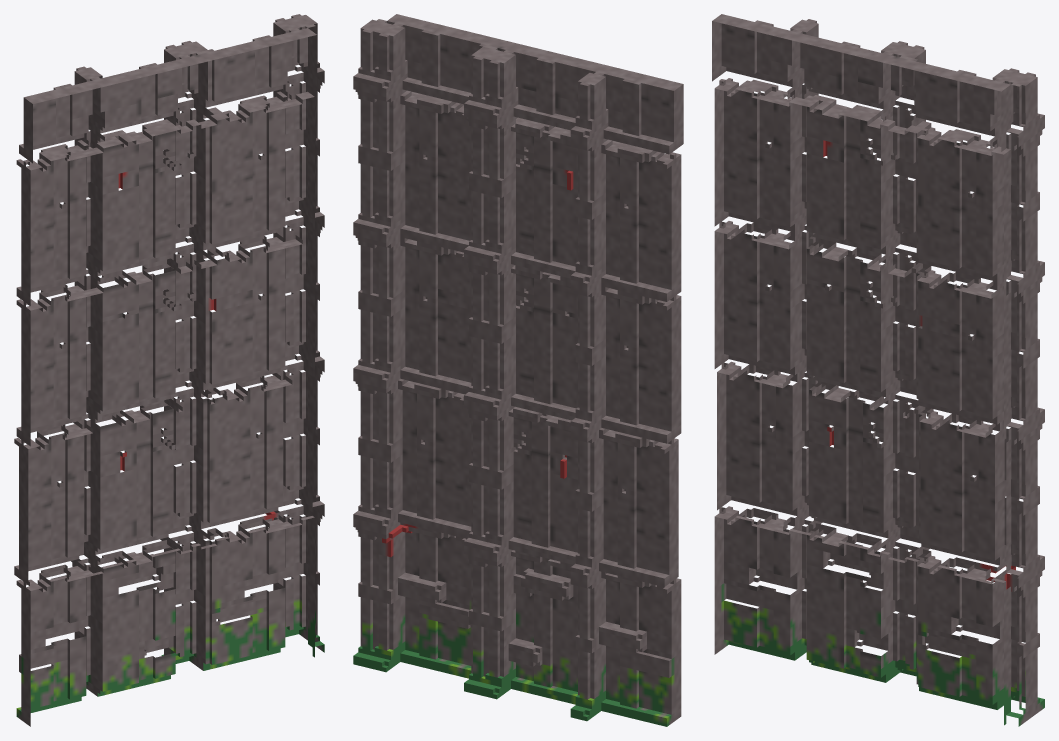
The model's file is deathGate_door_right_state_2.fbx.
3 renders of one model, left to right at view 1: azimuth 30°, elevation 25°; view 2: azimuth 150°, elevation 25°; view 3: azimuth 330°, elevation 25°, orthographic.
Parts seen in each view (by area): view 1: deathGate_door_state_5; view 2: deathGate_door_state_5; view 3: deathGate_door_state_5.
Part boxes in pixels (box(x1,y1,x2,y2)): deathGate_door_state_5: box(14, 14, 324, 726); deathGate_door_state_5: box(353, 14, 683, 726); deathGate_door_state_5: box(712, 14, 1044, 726).
Bounding box in the file's own units: 73 × 147 × 13.
Materials: 1 (1 with a texture image).
